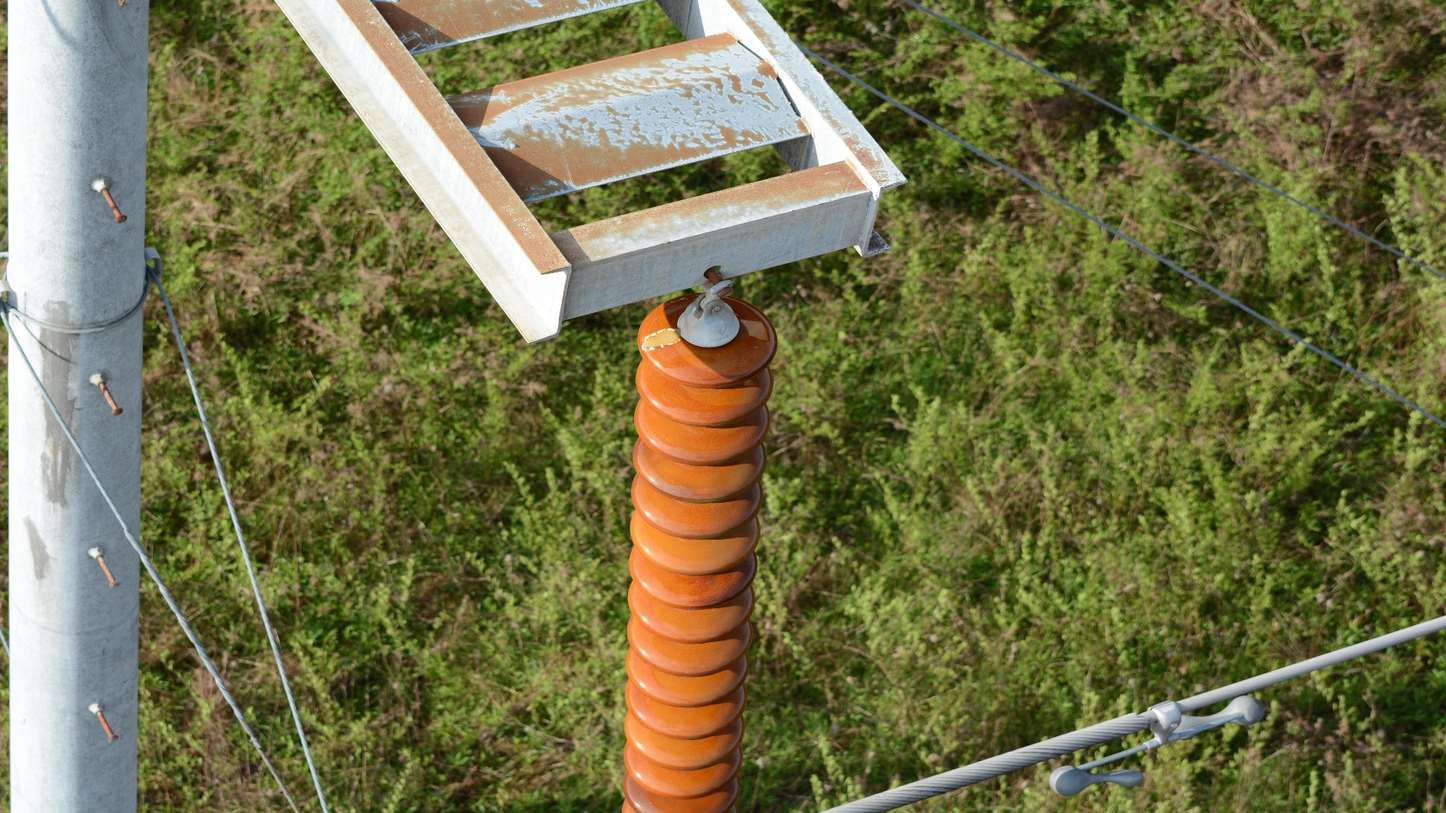damper: (1042, 691, 1271, 801)
